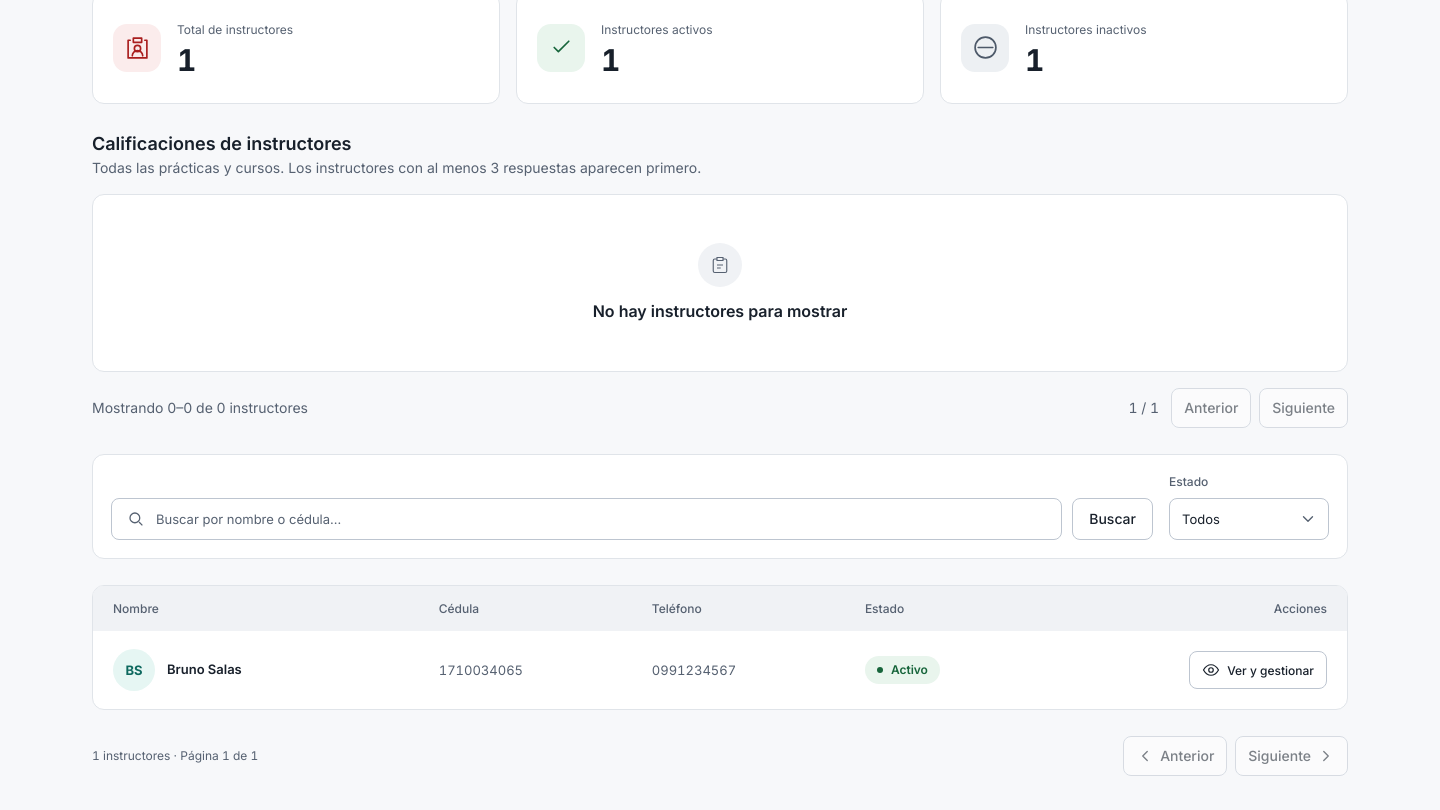
InstructorsPage › muestra el error del backend al restablecer
(page scrolled)
Click the button "Ver y gestionar": (1258, 670) [1189,651,1327,689]
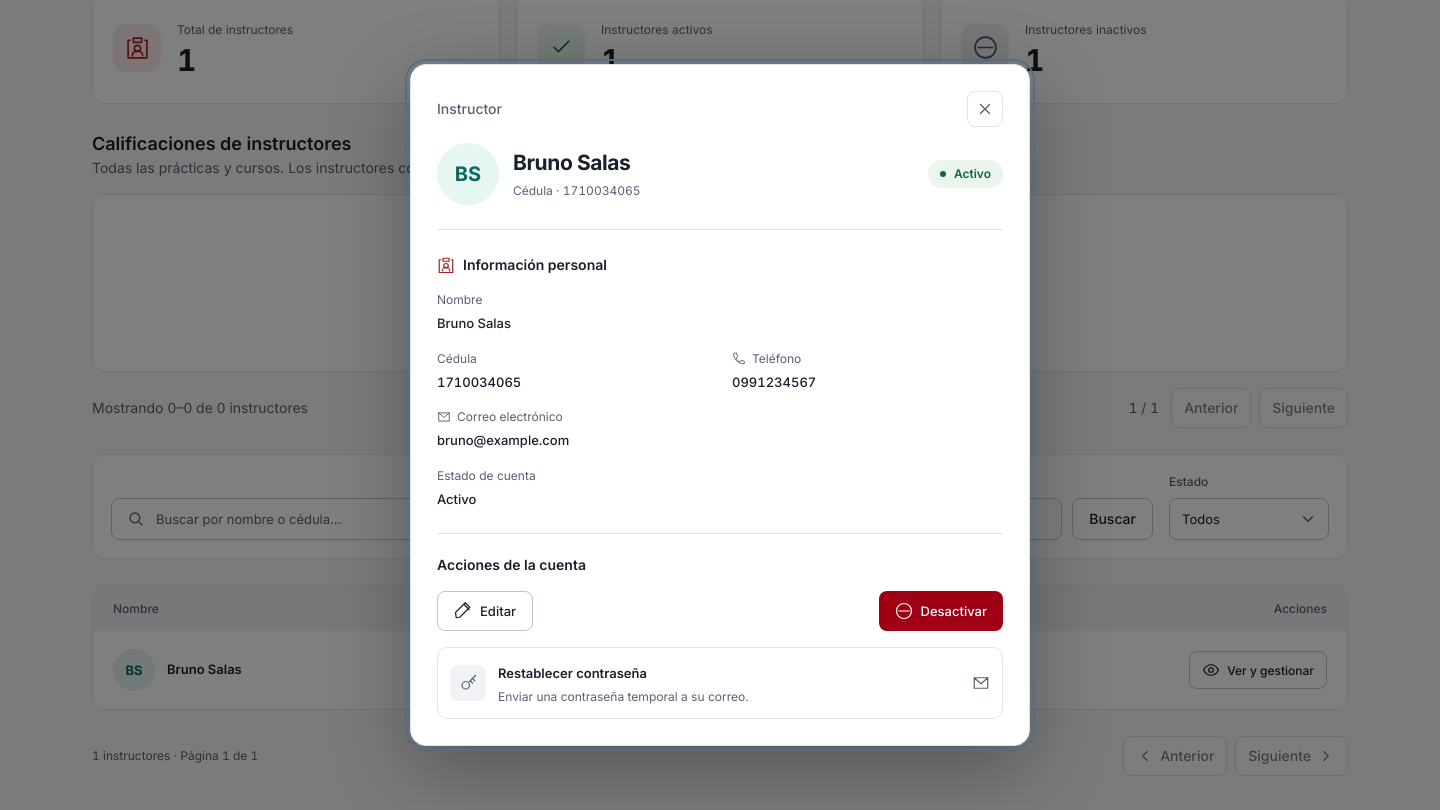
Click the button "Restablecer contraseña": (468, 683) [437,647,1003,719]
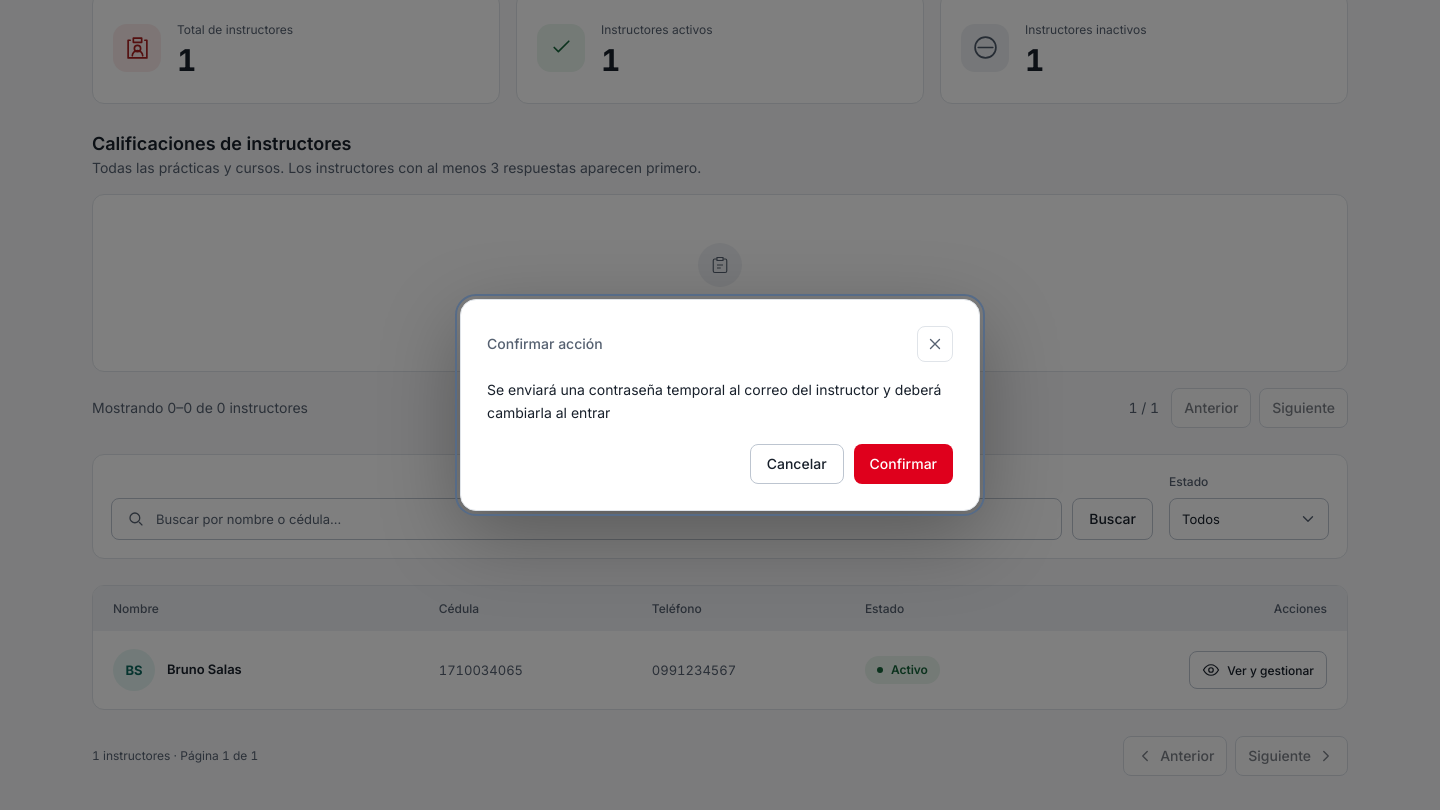
Click the button "Confirmar": (903, 464) [854,444,953,484]
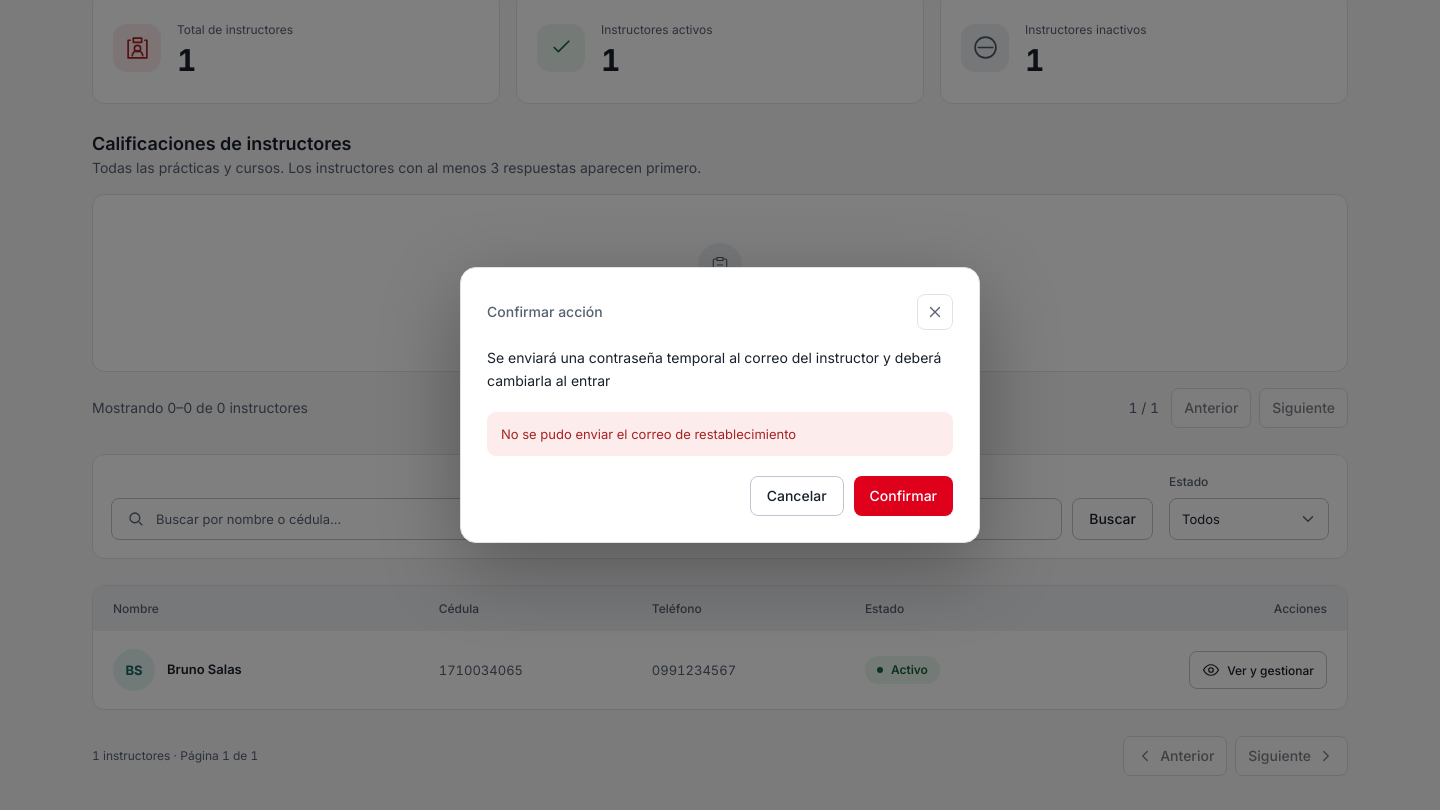
expect the message reads "No se pudo enviar el correo de restablecimiento": met, box [501,426,796,442]
